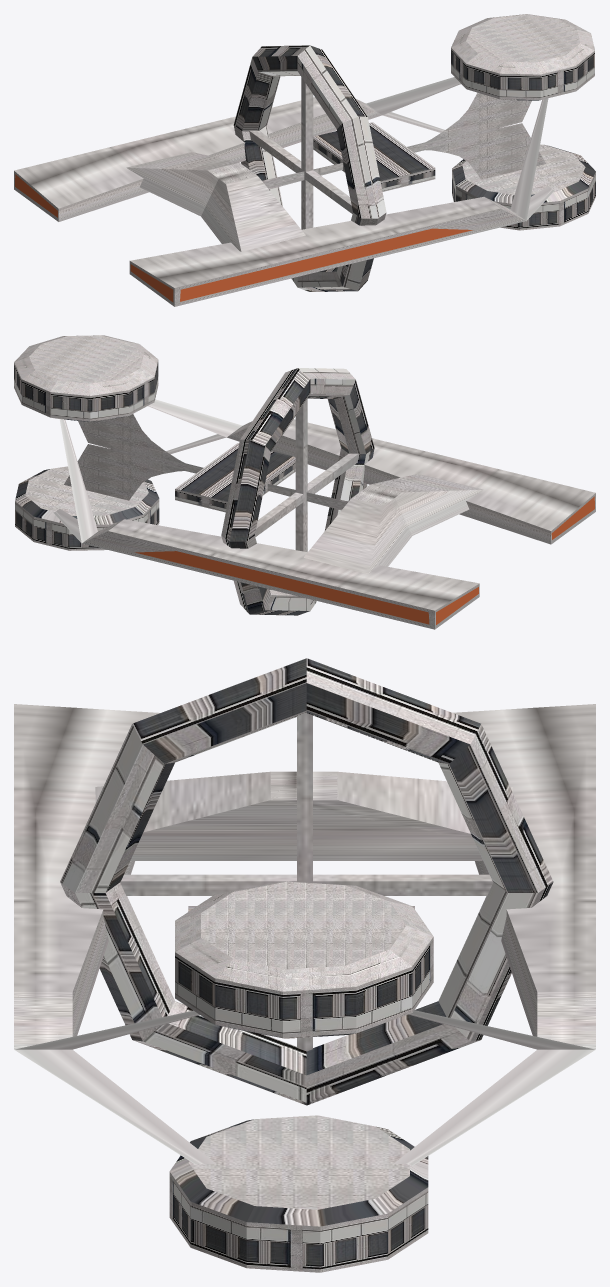
The model's file is medShip.glb.
The picture shows the model from 3 angles, top to bottom: view 1: azimuth 30°, elevation 25°; view 2: azimuth 150°, elevation 25°; view 3: azimuth 270°, elevation 25°; orthographic projection. The views are drawn at different scales.
Visible parts, largest first — view 1: Cylinder; view 2: Cylinder; view 3: Cylinder.
Part boxes in pixels (x1=…): Cylinder: x1=14, y1=14, x2=595, y2=306; Cylinder: x1=14, y1=335, x2=595, y2=629; Cylinder: x1=14, y1=658, x2=595, y2=1272.
Size of the model in its own units: 7.78 by 3.74 by 4.41.
3 materials, 2 textured.
